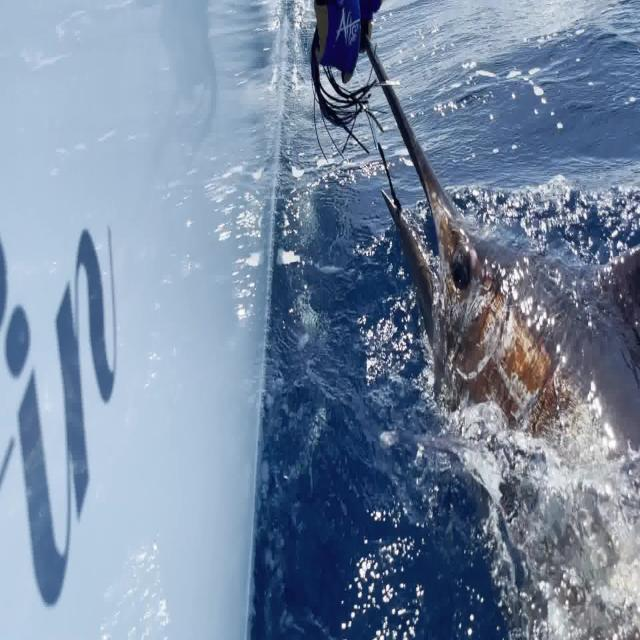Liberacion segura: (358, 29, 640, 640)
